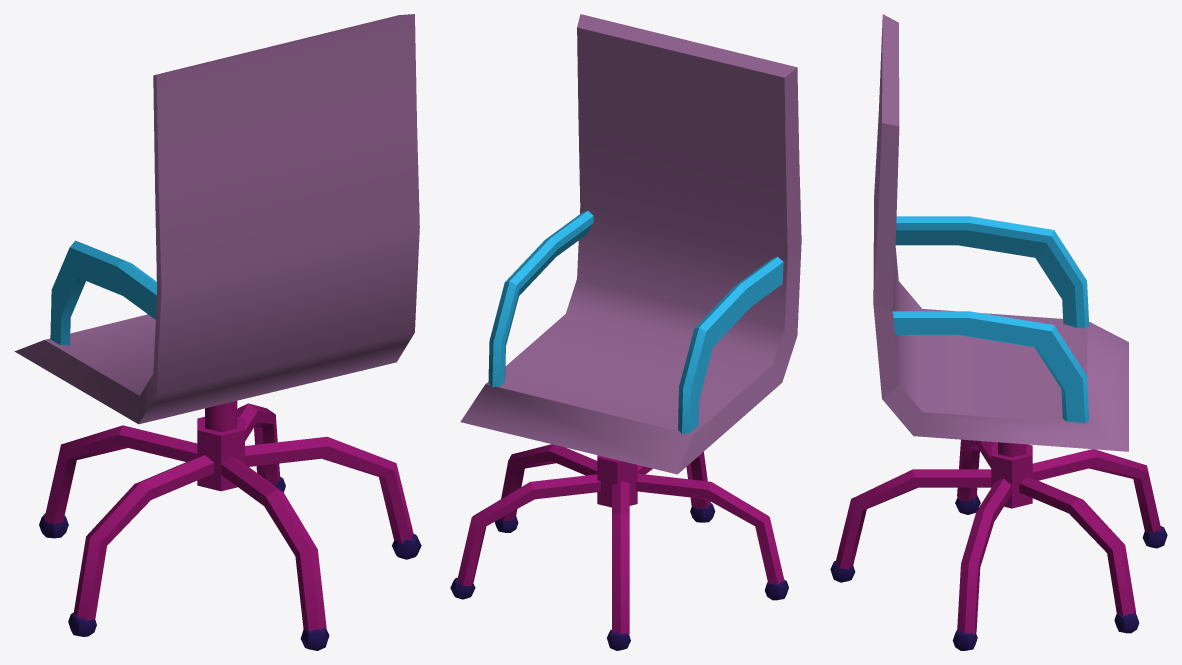
Rendered from Silla.FBX.
The picture shows the model from 3 angles, left to right: view 1: azimuth 30°, elevation 25°; view 2: azimuth 150°, elevation 25°; view 3: azimuth 270°, elevation 25°; orthographic projection. The views are drawn at different scales.
Parts seen in each view (by area): view 1: Cylinder001; view 2: Cylinder001; view 3: Cylinder001.
Boxes of the visible parts, bbox=[...] form: Cylinder001: bbox=[14, 14, 421, 650]; Cylinder001: bbox=[450, 14, 801, 650]; Cylinder001: bbox=[830, 14, 1167, 650].
Bounding box in the file's own units: 115 × 186 × 111.
